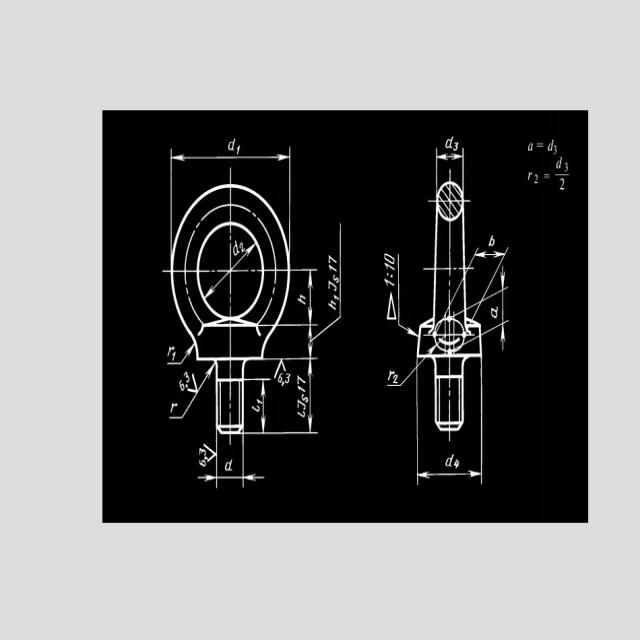marking_line: (169, 148, 292, 182), (267, 357, 319, 436), (197, 435, 266, 489), (416, 432, 485, 485), (467, 247, 510, 318), (205, 244, 255, 297), (482, 268, 510, 353), (396, 252, 418, 339), (245, 376, 271, 438), (292, 268, 319, 327), (280, 321, 318, 360), (435, 147, 465, 181)
numeric: (227, 137, 236, 153), (384, 252, 395, 264), (297, 293, 307, 306), (233, 239, 240, 257), (445, 135, 454, 149), (297, 374, 307, 386), (296, 399, 306, 411), (385, 262, 396, 272), (225, 459, 234, 471), (556, 155, 563, 170), (169, 402, 178, 413), (384, 278, 395, 287), (167, 346, 175, 358), (488, 234, 496, 246), (179, 380, 186, 393), (284, 372, 291, 384), (250, 405, 262, 412), (559, 177, 565, 191), (297, 409, 306, 418), (536, 140, 545, 149), (297, 384, 307, 392), (198, 448, 206, 457), (184, 371, 190, 383), (548, 139, 554, 151), (171, 351, 177, 362), (453, 141, 459, 152), (543, 172, 551, 180), (527, 142, 534, 151), (240, 242, 245, 254), (278, 372, 283, 383), (553, 143, 558, 154), (564, 161, 569, 172), (257, 397, 263, 406), (527, 172, 532, 182), (199, 460, 206, 467), (237, 144, 241, 155), (534, 174, 538, 184)
special_symbol: (313, 223, 343, 344), (385, 290, 397, 320), (203, 441, 216, 462), (274, 360, 286, 380), (186, 374, 196, 393)
